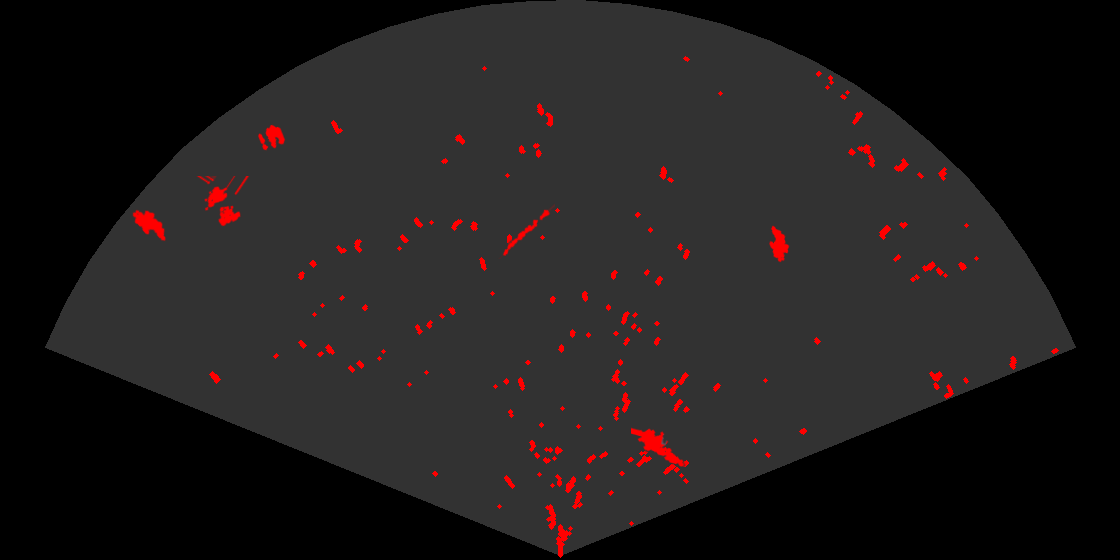AUV: (131, 208, 167, 243), (768, 224, 791, 264)
ball: (256, 123, 287, 152)
cage: (195, 176, 251, 228)
chain: (497, 202, 555, 259)
frogman: (631, 426, 686, 468)
